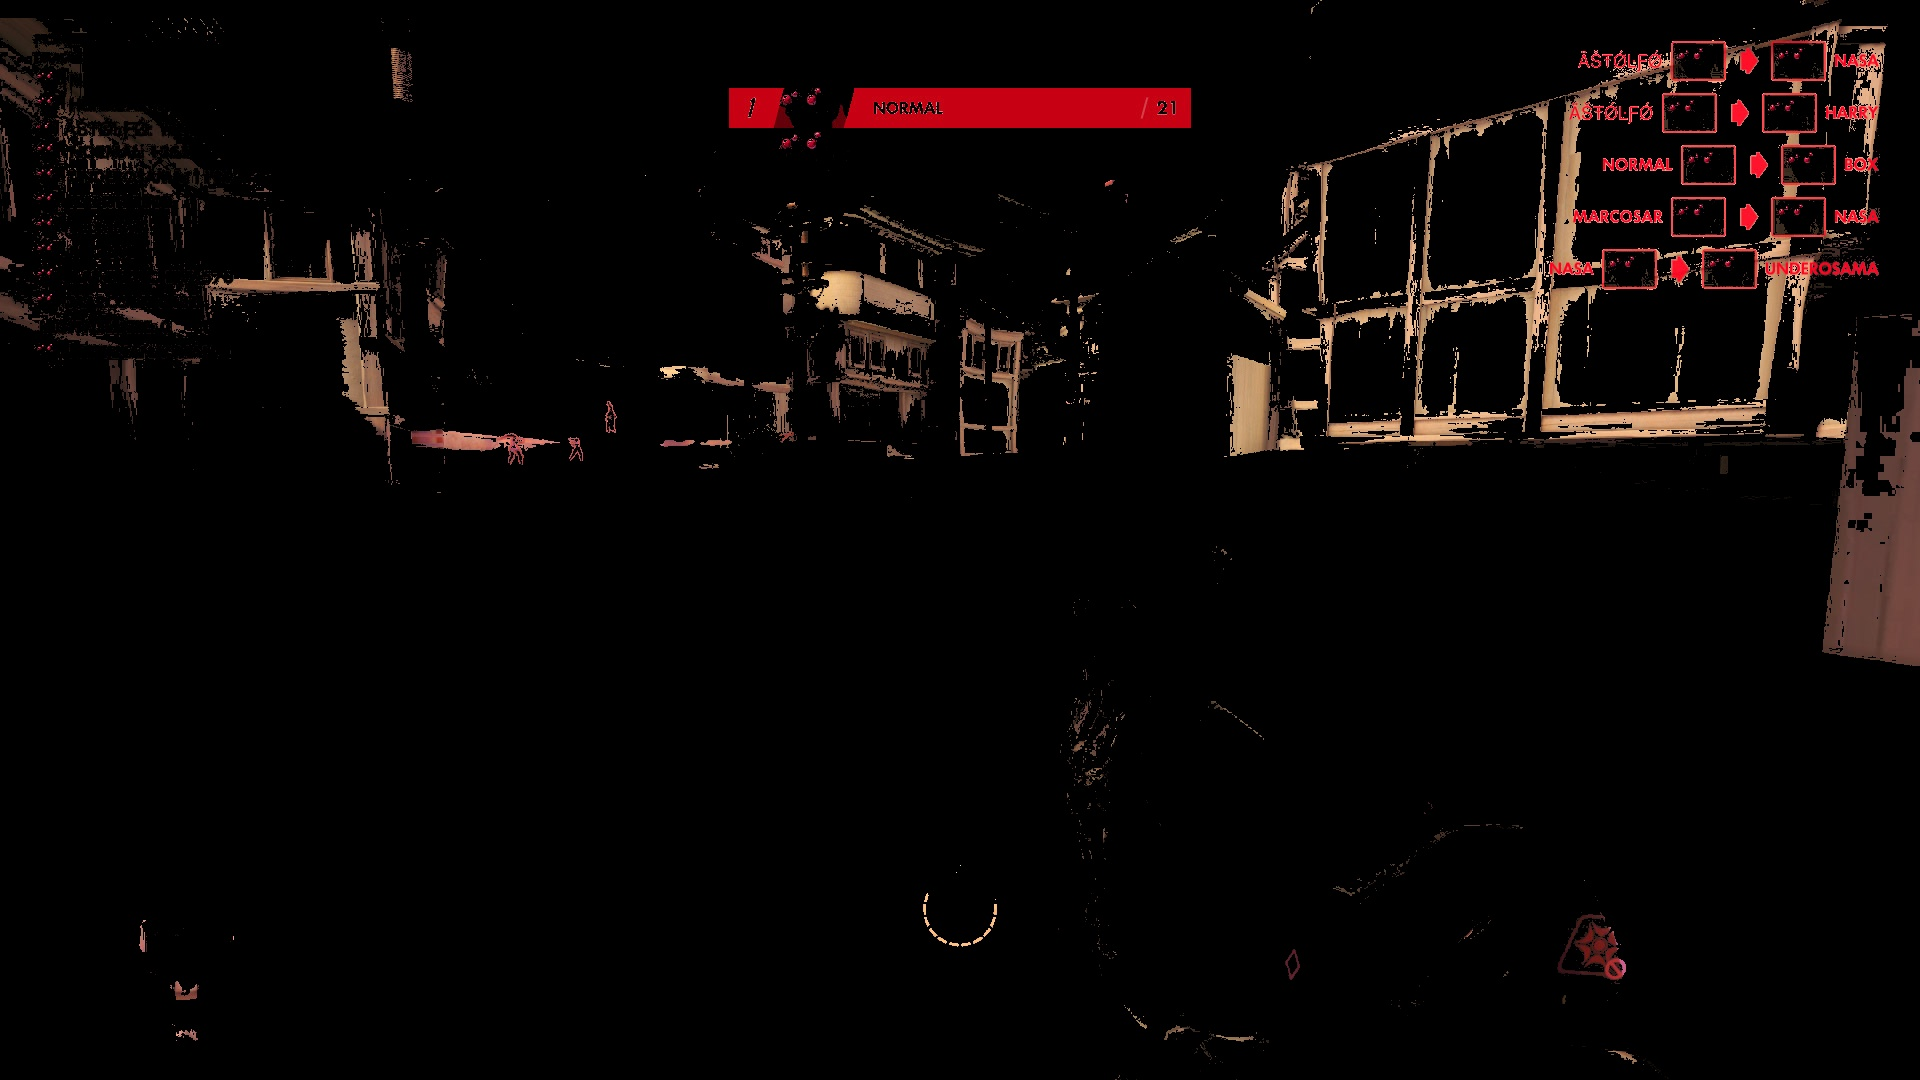widowmaker: (498, 431, 531, 471), (599, 401, 622, 436), (568, 435, 585, 469)
